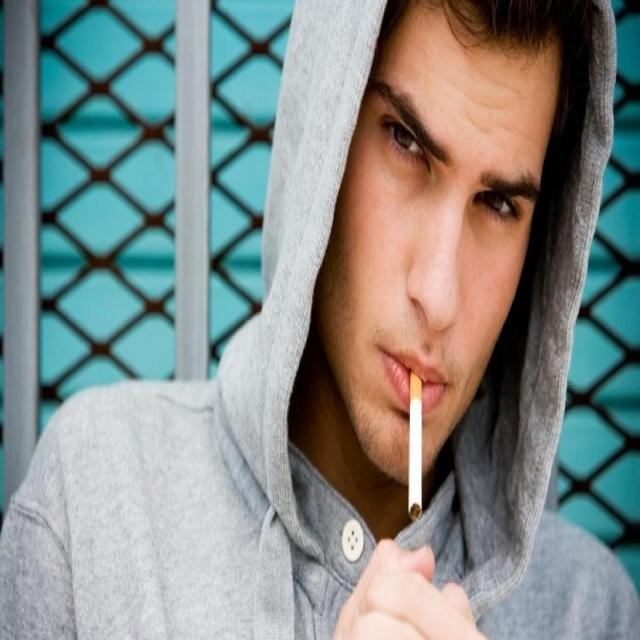cigarette: (407, 370, 426, 527)
